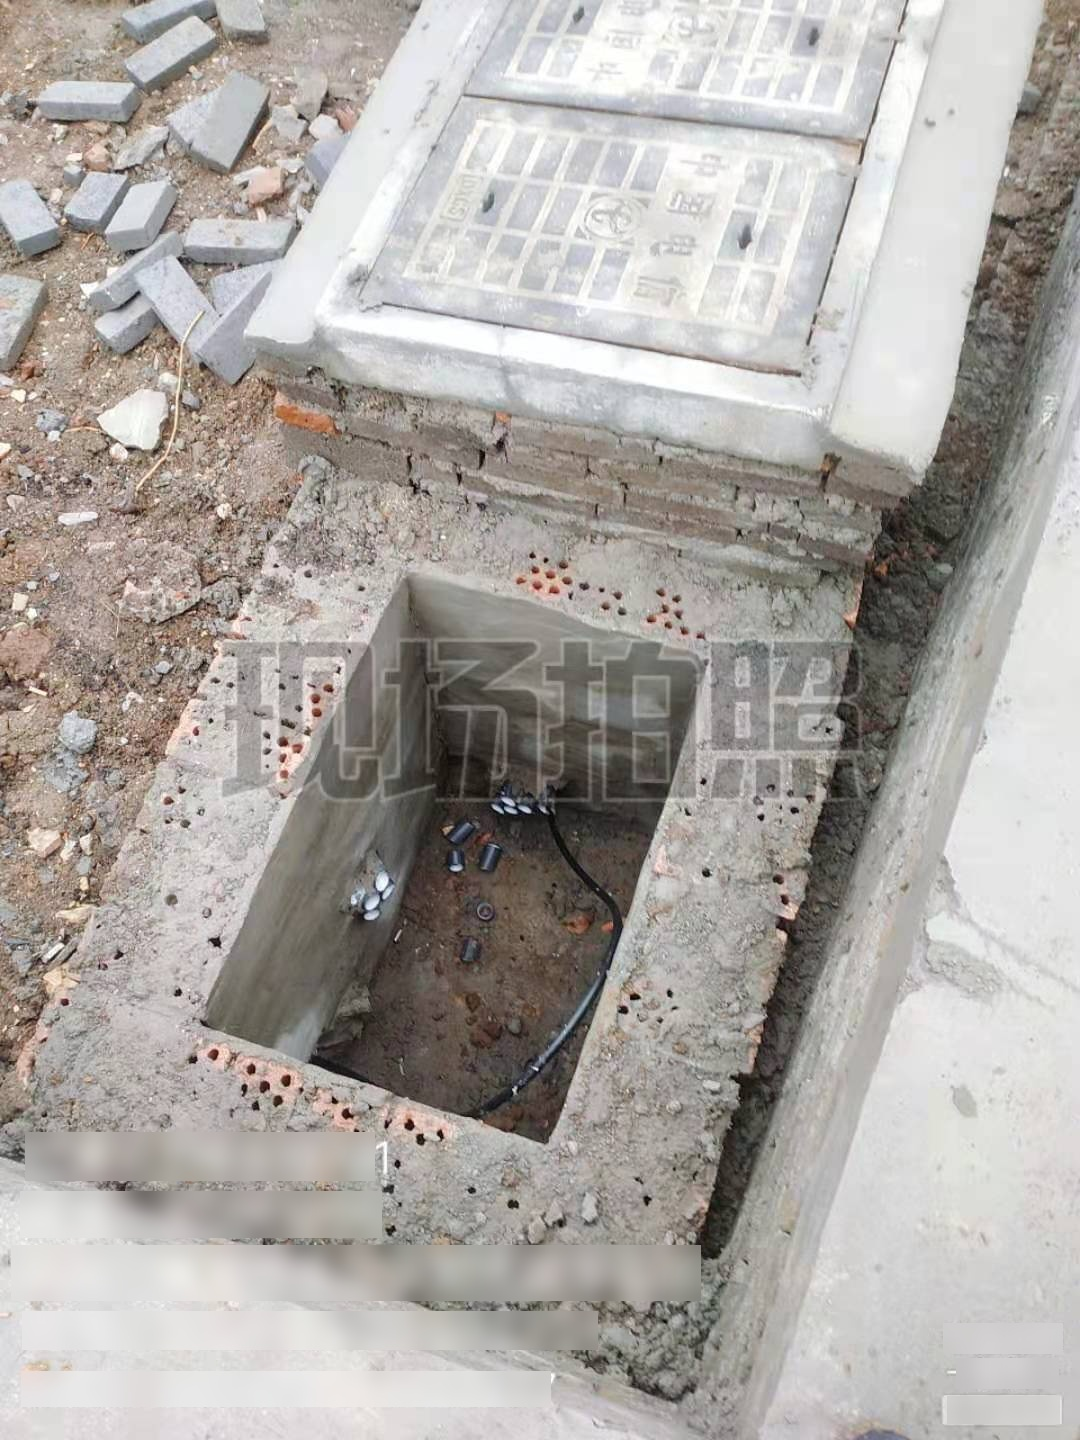good: (323, 3, 944, 414)
lose: (189, 562, 708, 1146)
